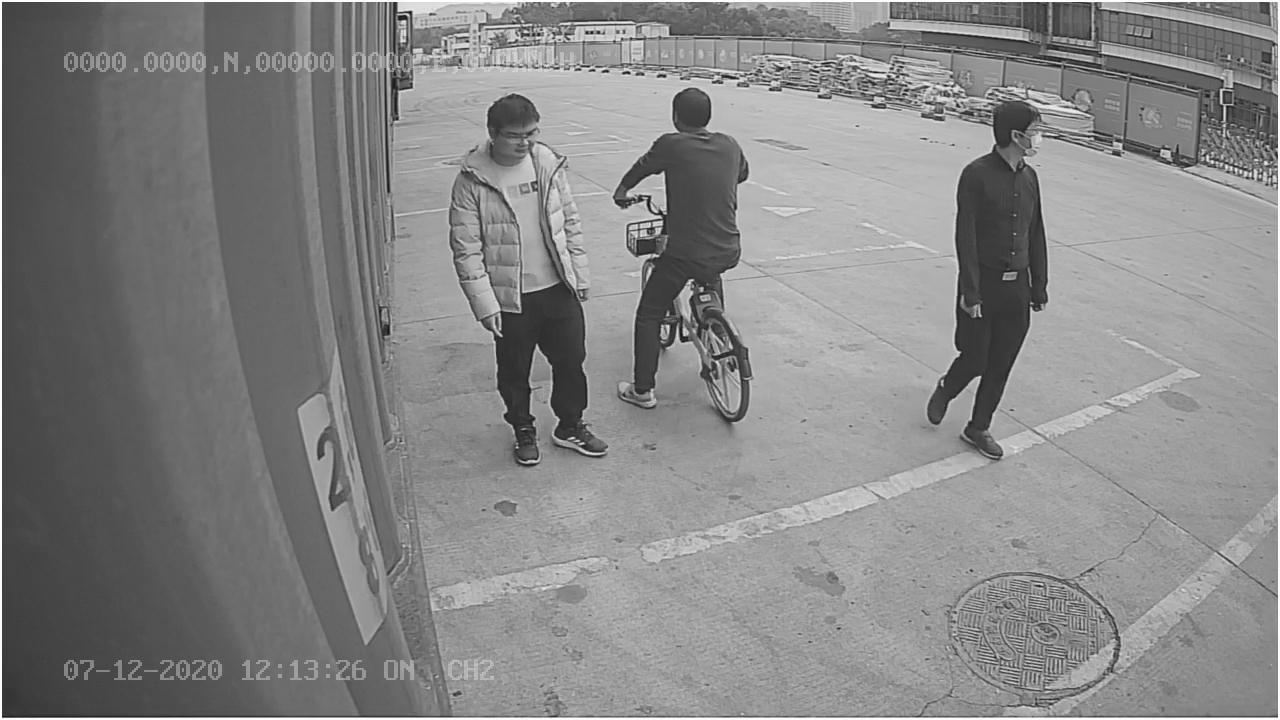person: (444, 90, 609, 465), (924, 94, 1055, 465)
